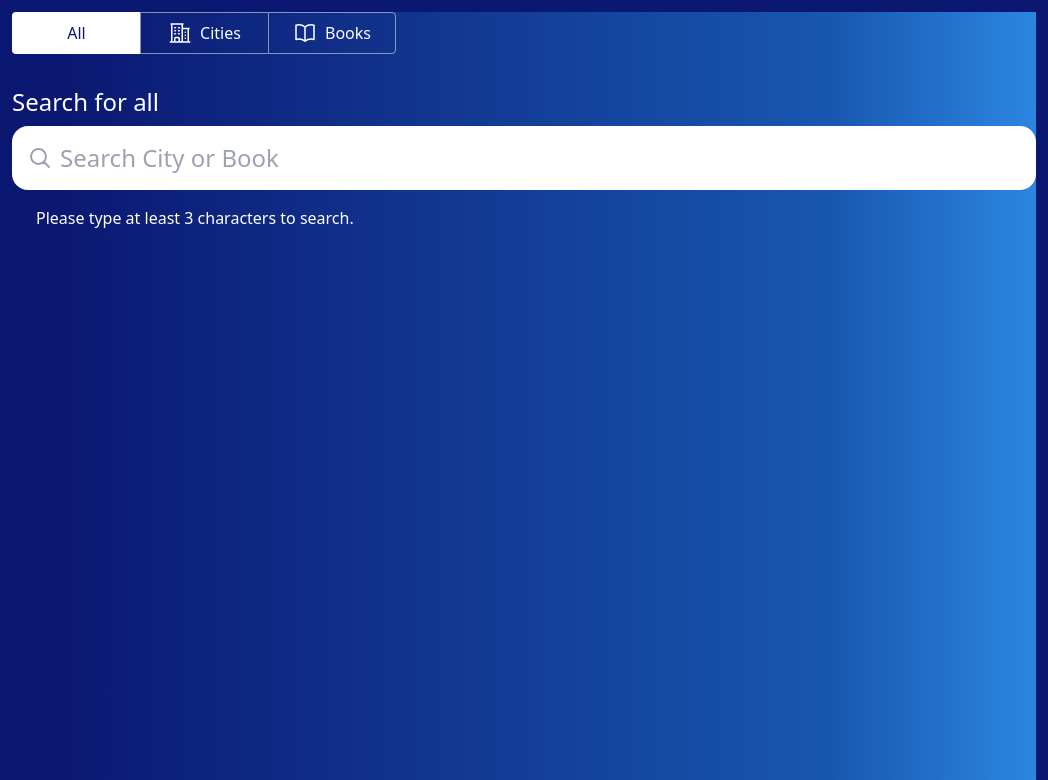
Test: Autocomplete Integration › results should change based on selected category
Type "san fr" into the field with placeholder "Search City or Book" at (524, 158), box [12,126,1036,190]
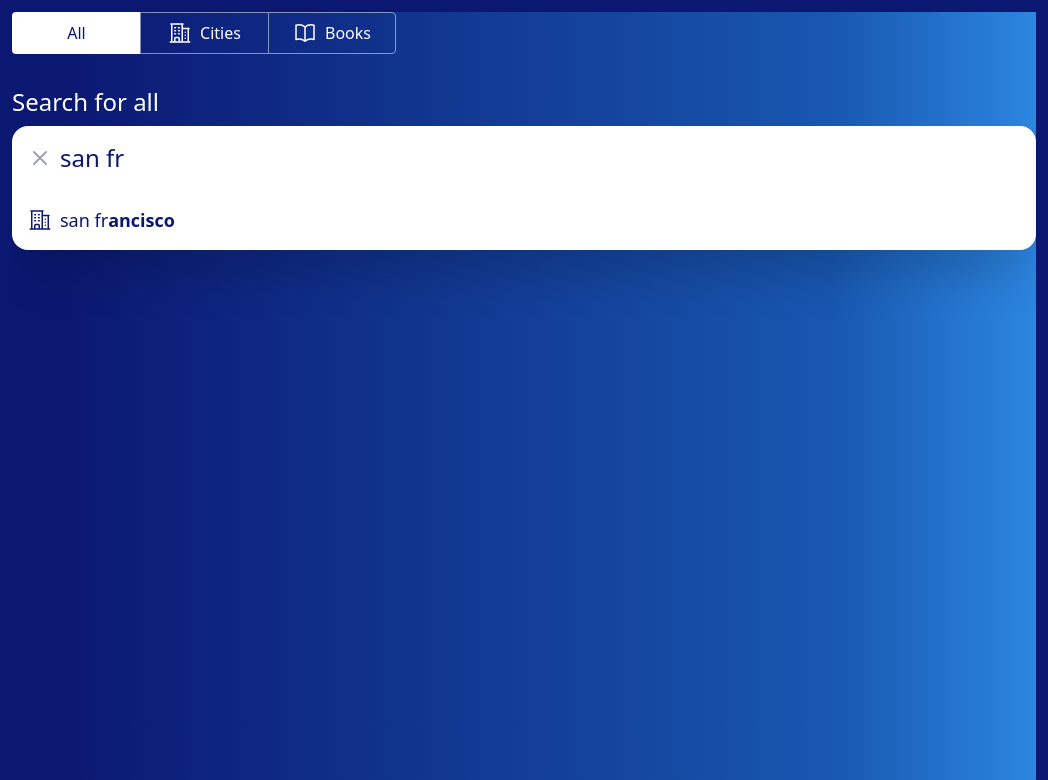
Expected: the text "san francisco" is shown, [60,206,175,234]
Click the button "books" at (332, 33), box [268,12,396,54]
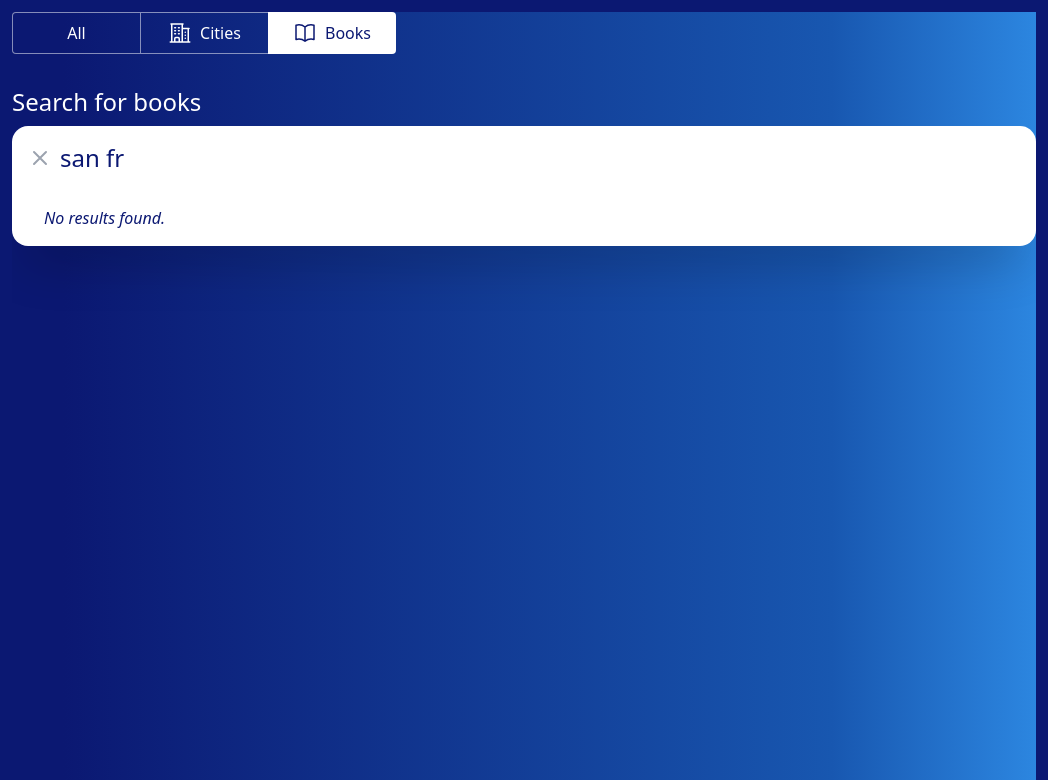
Expected: the text "Please type at least 3 characters to search." is not shown
Expected: the text "san francisco" is gone
Expected: the text "No results found." is shown, [44,206,165,230]
Click the button "cities" at (204, 33), box [140,12,268,54]
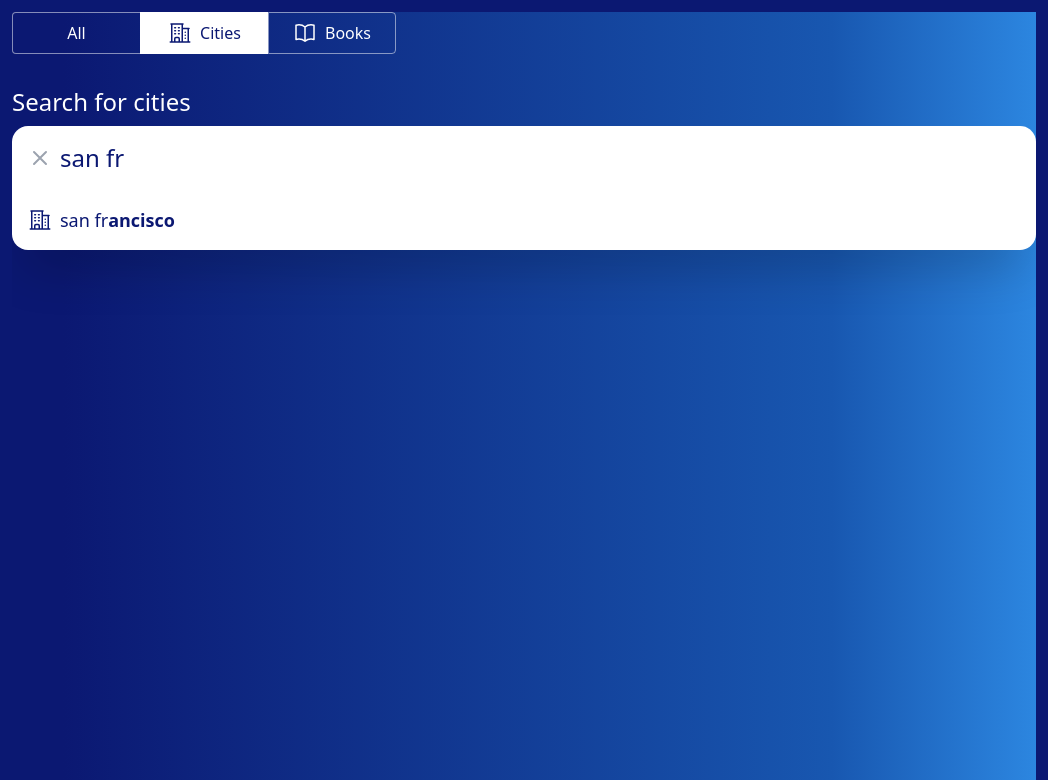
Expected: the text "san francisco" is shown, [60,206,175,234]
